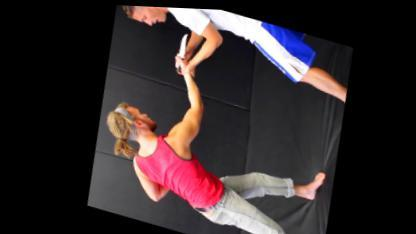knife: (165, 25, 194, 74)
